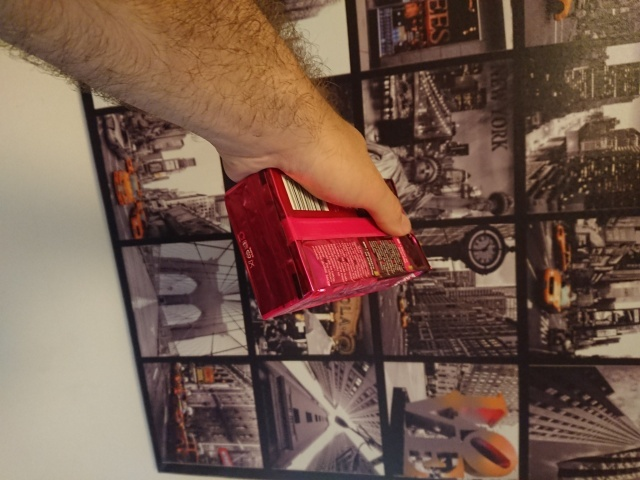Barcaffe Classic Original 225g: (222, 165, 433, 323)
